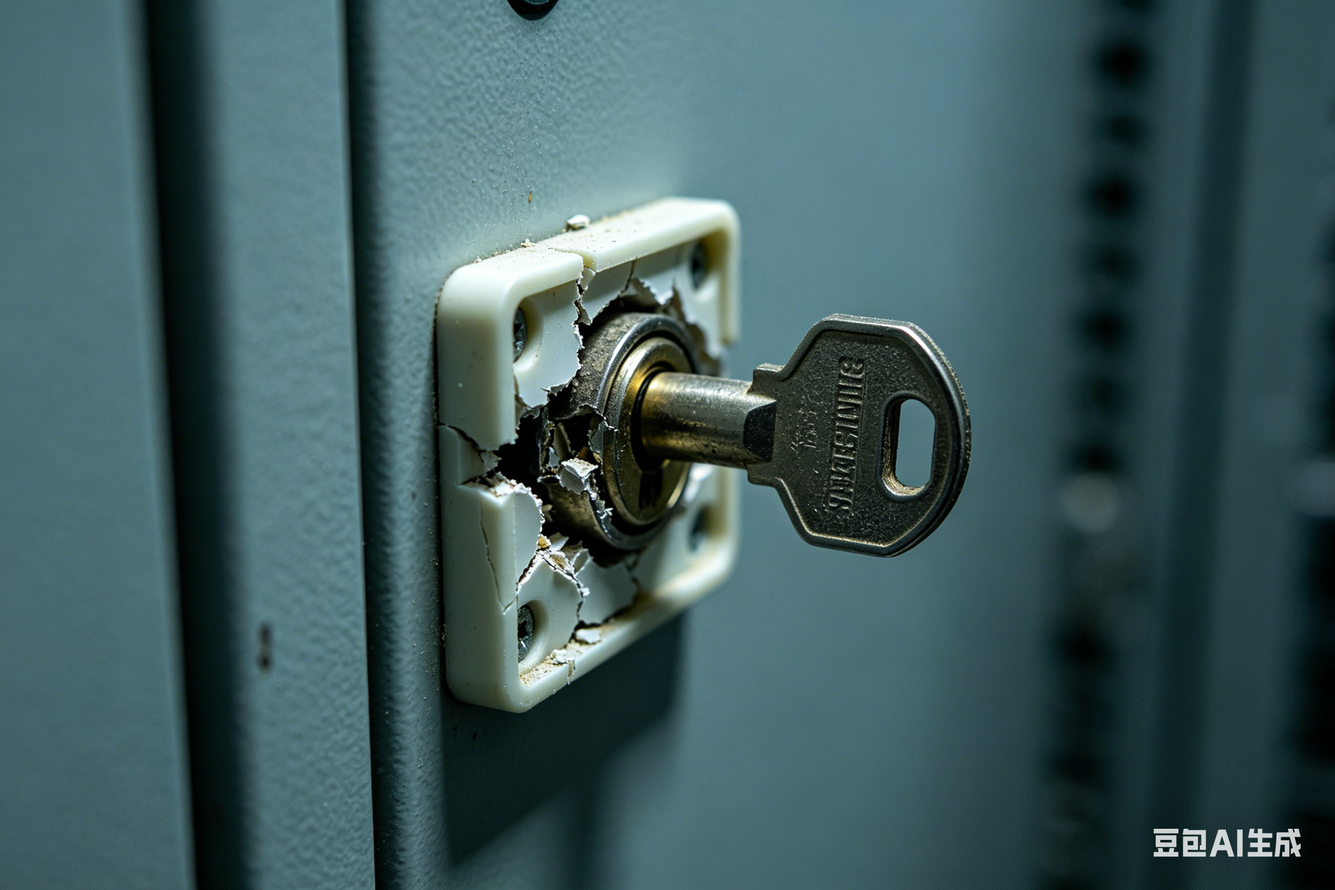BadLock: (469, 298, 639, 574)
